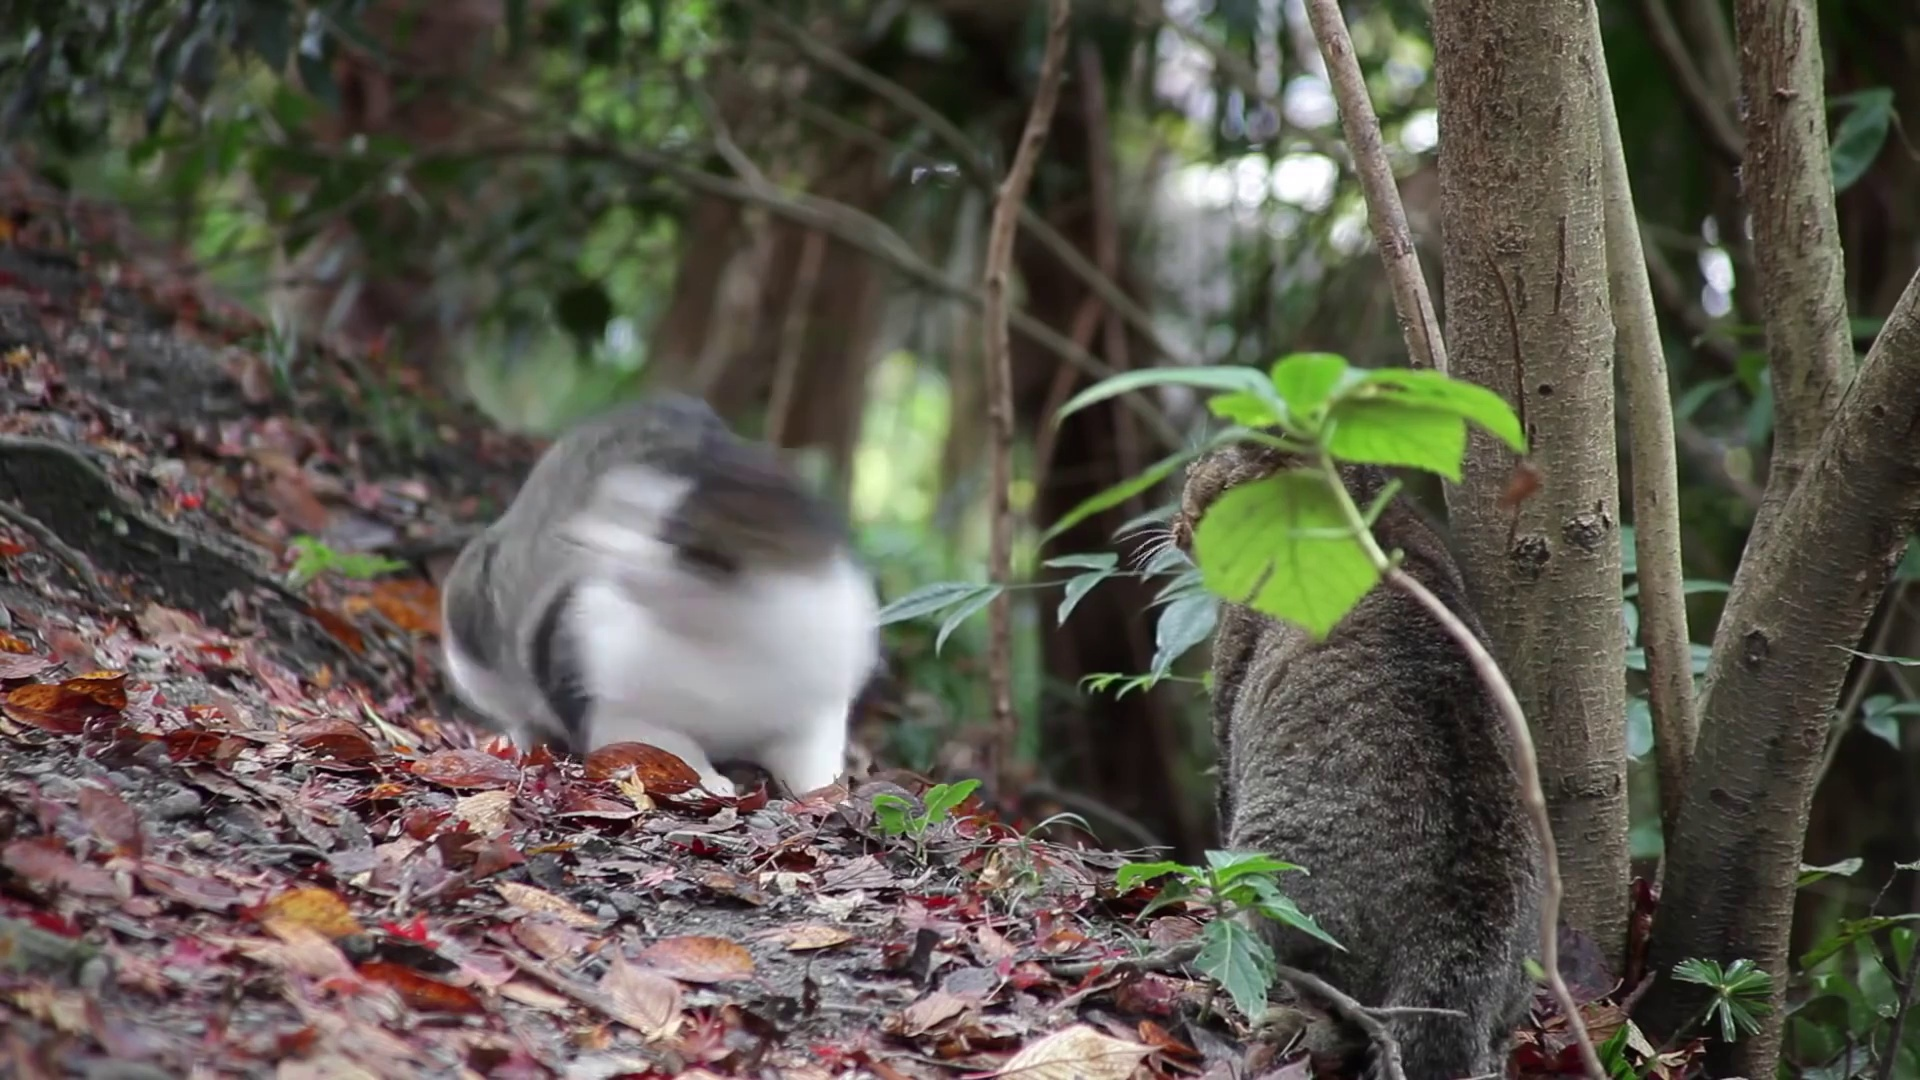black-white: (433, 390, 884, 796)
pure black: (1174, 418, 1545, 1040)
